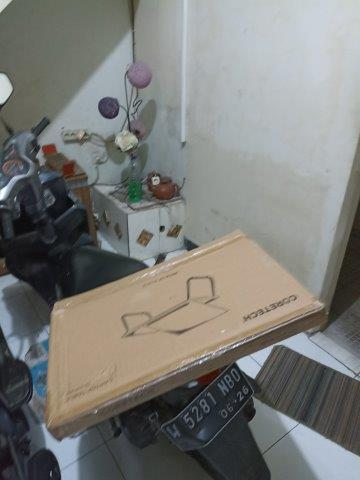kardus: (49, 232, 327, 434)
